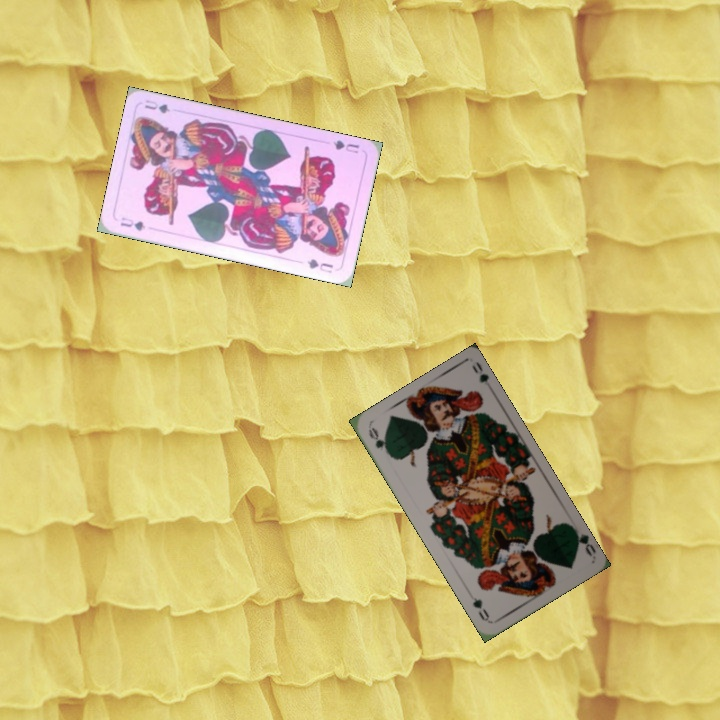GO: (364, 423, 394, 459), (568, 522, 597, 558)
GU: (329, 136, 362, 156), (116, 213, 148, 233)
